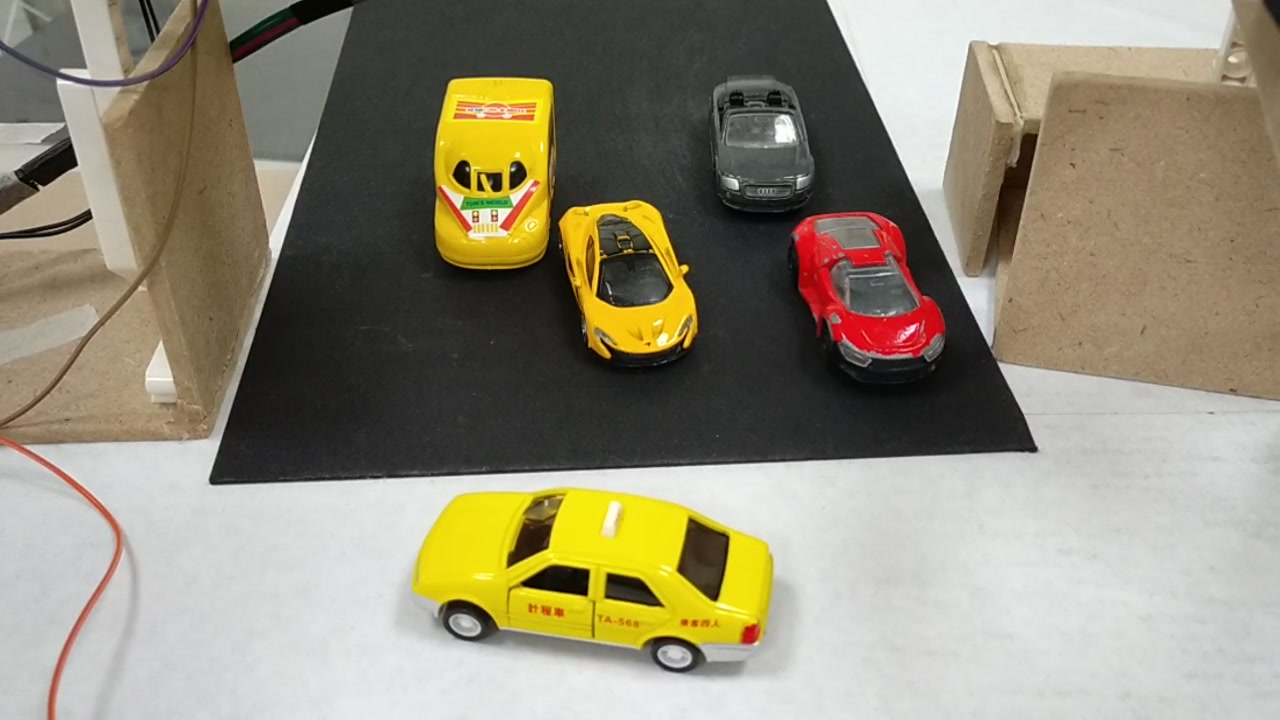car: (400, 488, 780, 684), (787, 212, 952, 380), (555, 201, 698, 369), (709, 72, 816, 212)
